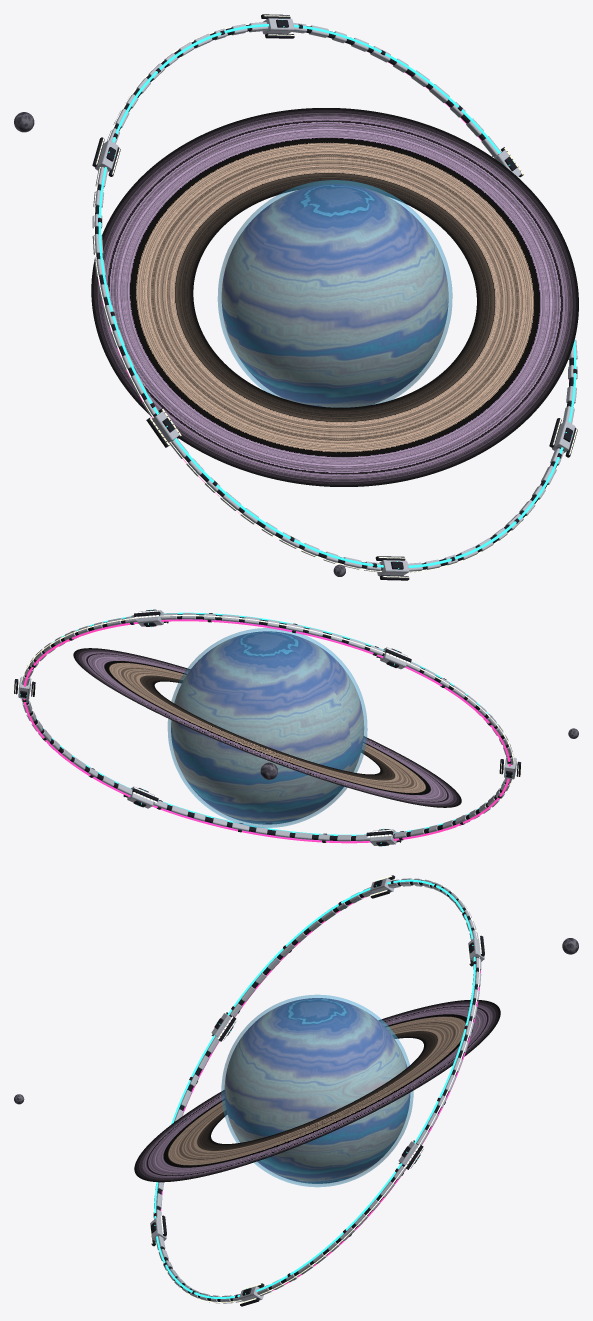
Rendered from sky_planet.glb.
The picture shows the model from 3 angles, top to bottom: view 1: azimuth 30°, elevation 25°; view 2: azimuth 150°, elevation 25°; view 3: azimuth 270°, elevation 25°; orthographic projection. The views are drawn at different scales.
Parts seen in each view (by area): view 1: planet_rings, planet_atmo, planet_surface, halo_hull, halo_dark, neon, light_white; view 2: planet_atmo, planet_surface, planet_rings, halo_hull, halo_dark, neon2, light_white, neon; view 3: planet_atmo, planet_surface, planet_rings, halo_hull, halo_dark, neon, light_white.
Boxes of the visible parts, <box> form: planet_rings: <box>91,108,578,486</box>; planet_atmo: <box>217,180,452,407</box>; planet_surface: <box>221,184,448,407</box>; halo_hull: <box>92,18,577,576</box>; halo_dark: <box>92,14,577,580</box>; neon: <box>98,19,576,568</box>; light_white: <box>92,15,577,579</box>; planet_atmo: <box>167,628,367,827</box>; planet_surface: <box>171,631,364,824</box>; planet_rings: <box>73,648,461,807</box>; halo_hull: <box>18,610,516,845</box>; halo_dark: <box>14,609,520,846</box>; neon2: <box>23,619,510,843</box>; light_white: <box>15,610,519,843</box>; neon: <box>20,609,512,846</box>; planet_atmo: <box>221,994,413,1187</box>; planet_surface: <box>224,998,410,1183</box>; planet_rings: <box>134,999,500,1182</box>; halo_hull: <box>150,878,484,1303</box>; halo_dark: <box>150,875,484,1306</box>; neon: <box>150,879,475,1298</box>; light_white: <box>149,876,485,1306</box>.
Size of the model in its own units: 504 by 404 by 608.
10 materials, 4 textured.
